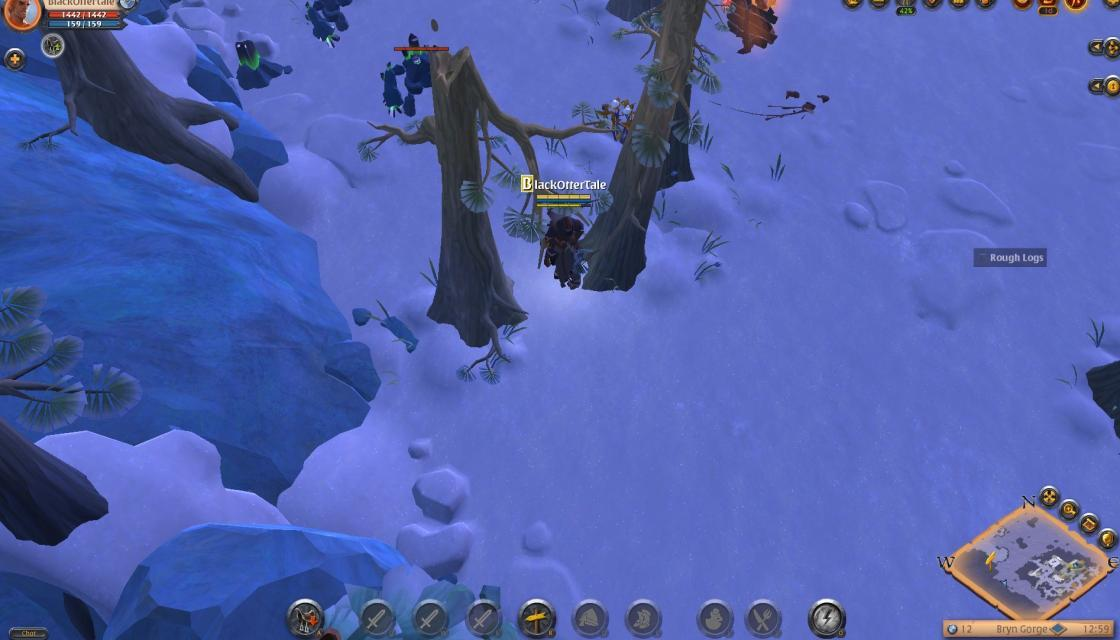tinore: (228, 33, 286, 86)
